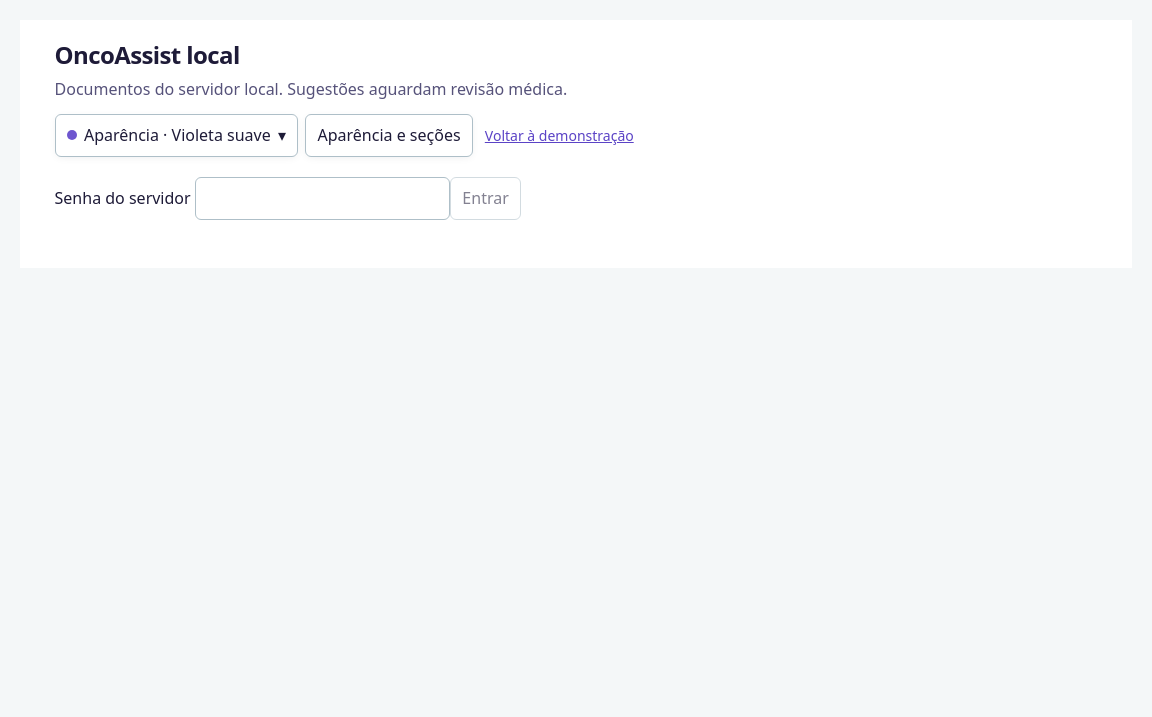
Test: navegação com transcrição não salva › falha durante o salvamento preserva o texto e restaura a guarda após resolver
The width and height of the screenshot is (1152, 717).
Type "senha-sintetica-para-teste" into the password field labelled "Senha do servidor".
click(322, 198); type("senha-sintetica-para-teste")  # box [195, 177, 450, 220]
Click the button "Entrar".
click(486, 198)  # box [450, 177, 521, 220]
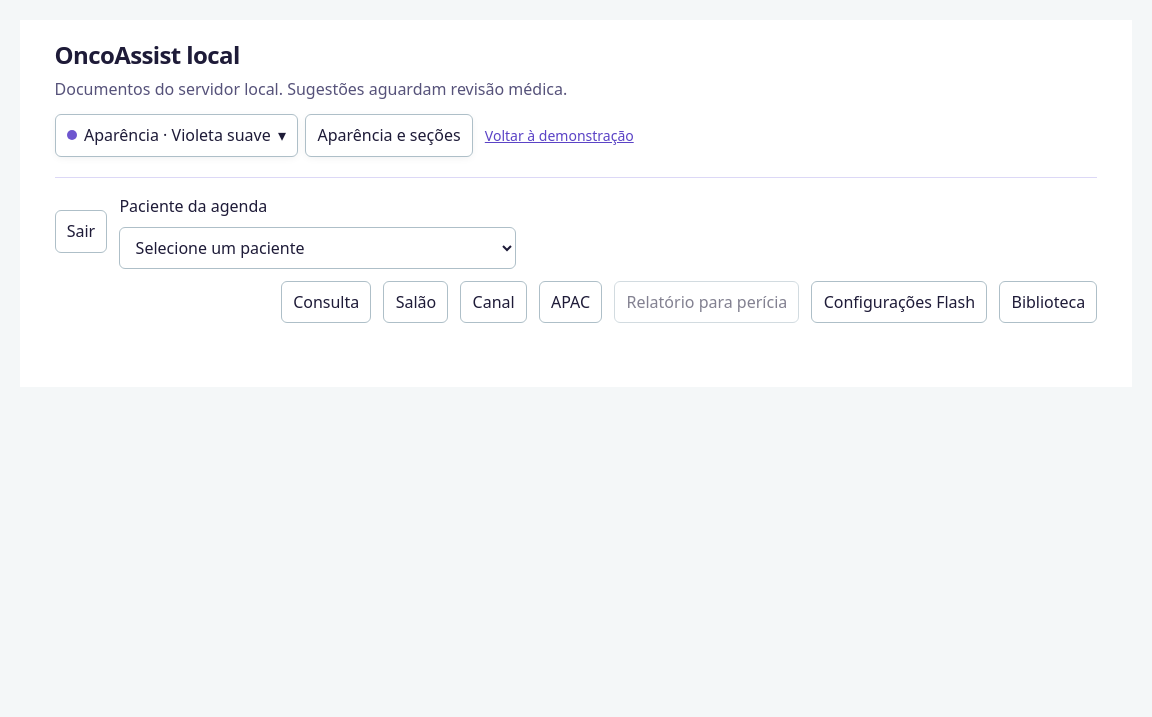
Select "11:00 — Paciente Teste 05" in the dropdown labelled "Paciente da agenda" at [318, 248], box [119, 227, 516, 269]
(page scrolled)
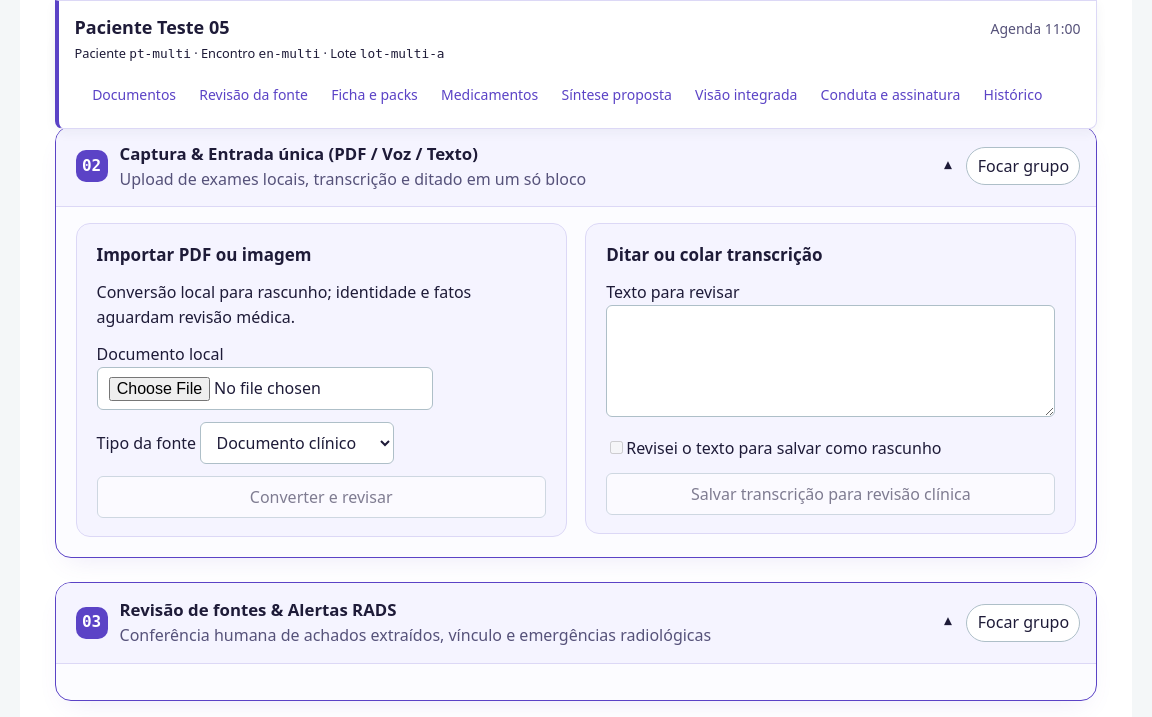
Check: the text box named "Texto da transcrição" is shown
Type "texto após falha de salvamento" into the text box named "Texto da transcrição".
click(831, 361); type("texto após falha de salvamento")  # box [606, 305, 1056, 417]
Click the checkbox labelled "Revisei o texto para salvar como rascunho".
click(617, 447)  # box [610, 441, 623, 454]
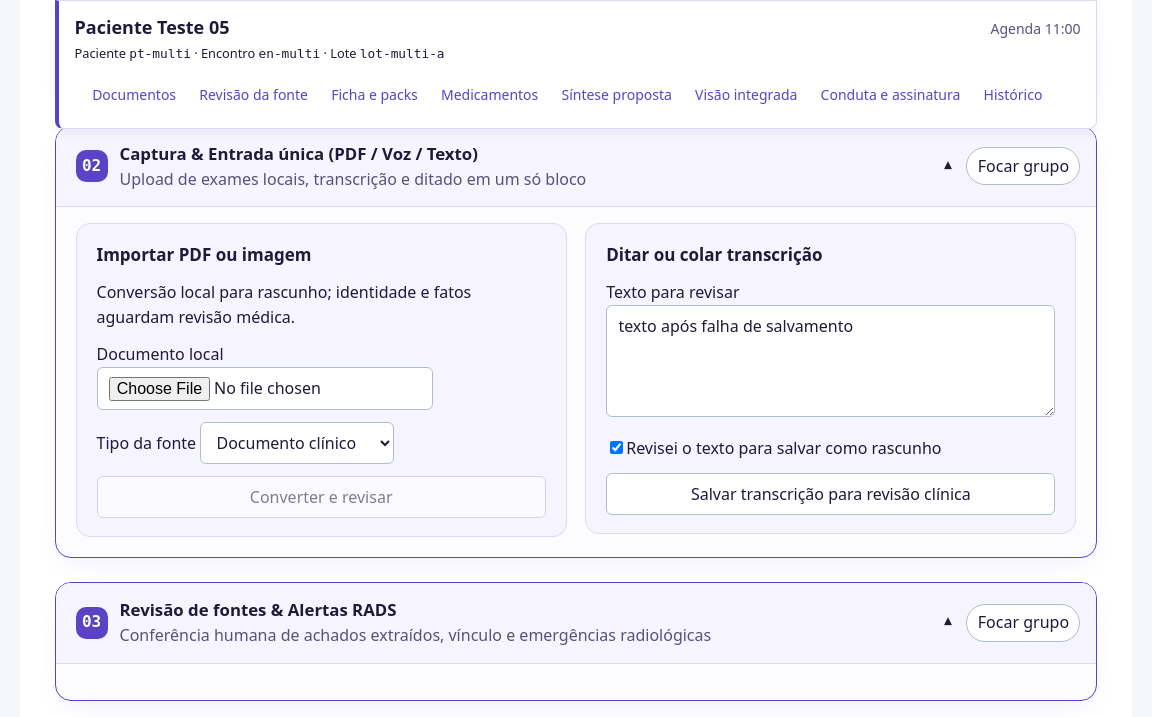
Click the button "Salvar transcrição para revisão clínica".
click(831, 494)  # box [606, 472, 1056, 515]
(page scrolled)
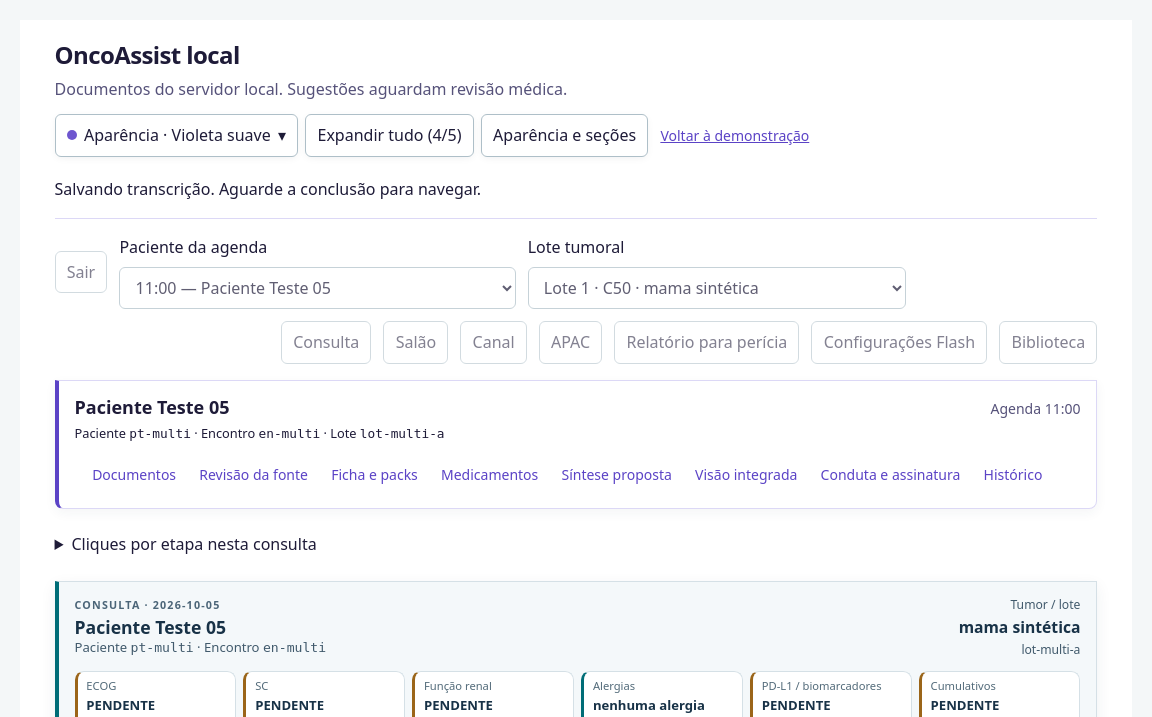
Click the link "Voltar à demonstração".
click(735, 135)  # box [660, 124, 809, 146]
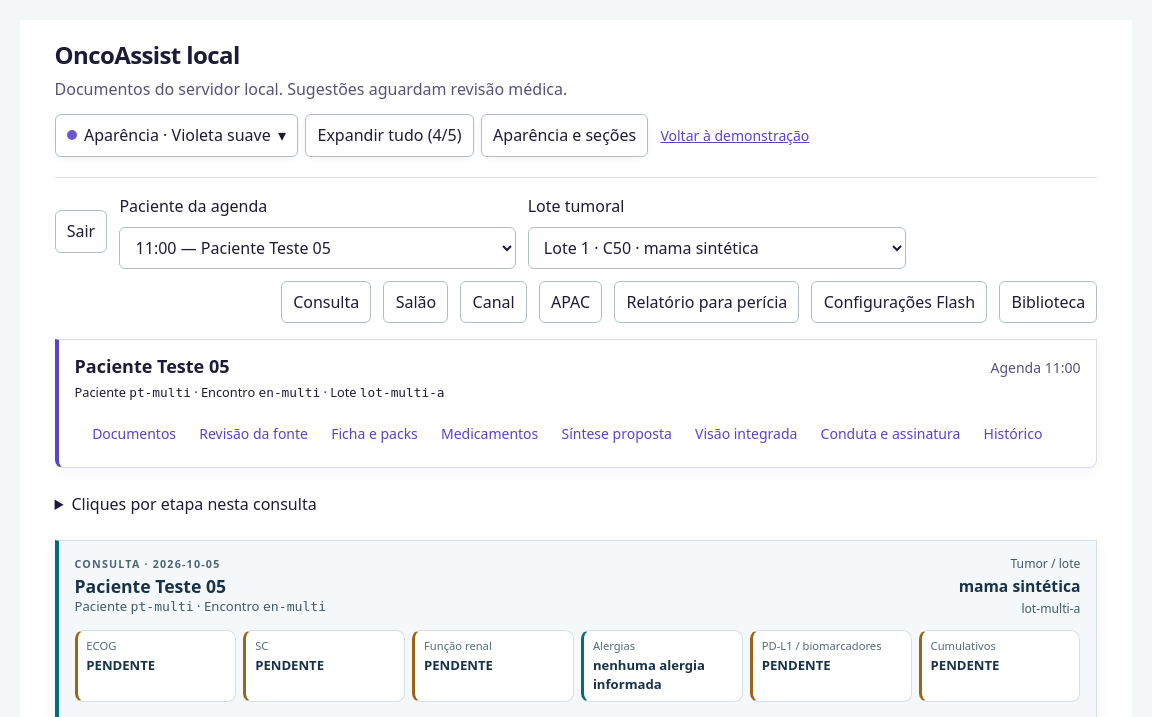
Click the button "APAC".
click(571, 302)  # box [539, 281, 602, 323]
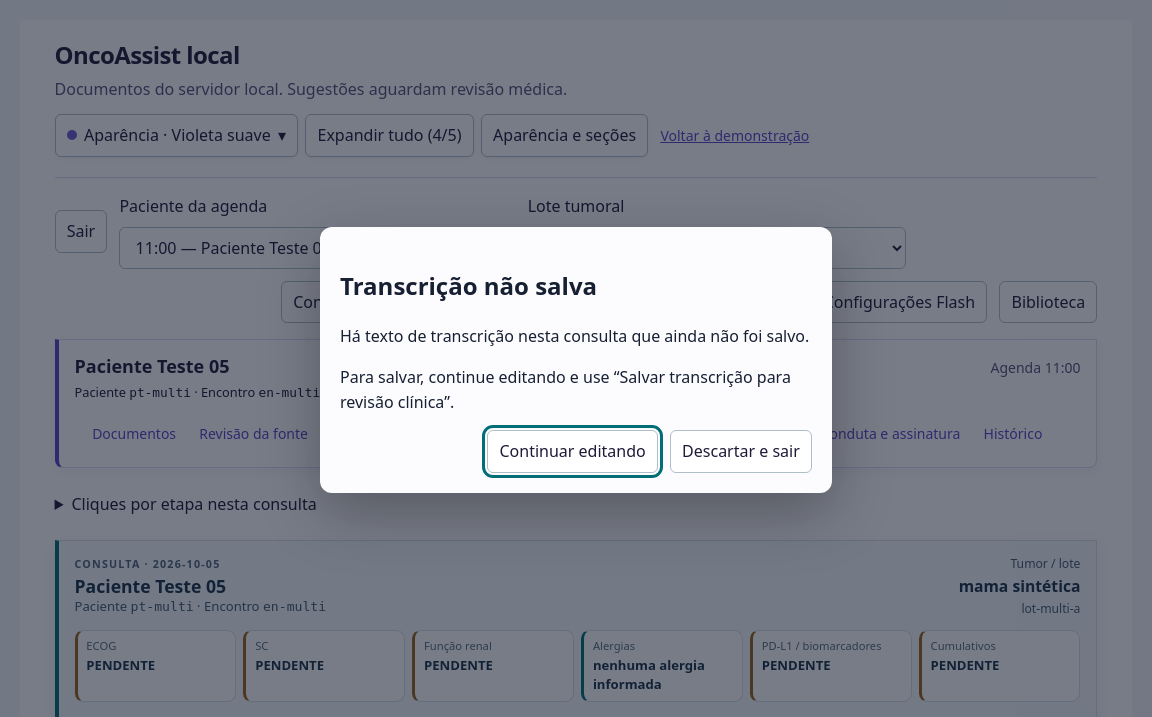
Check: the dialog "Transcrição não salva" is shown, box [320, 227, 832, 493]
